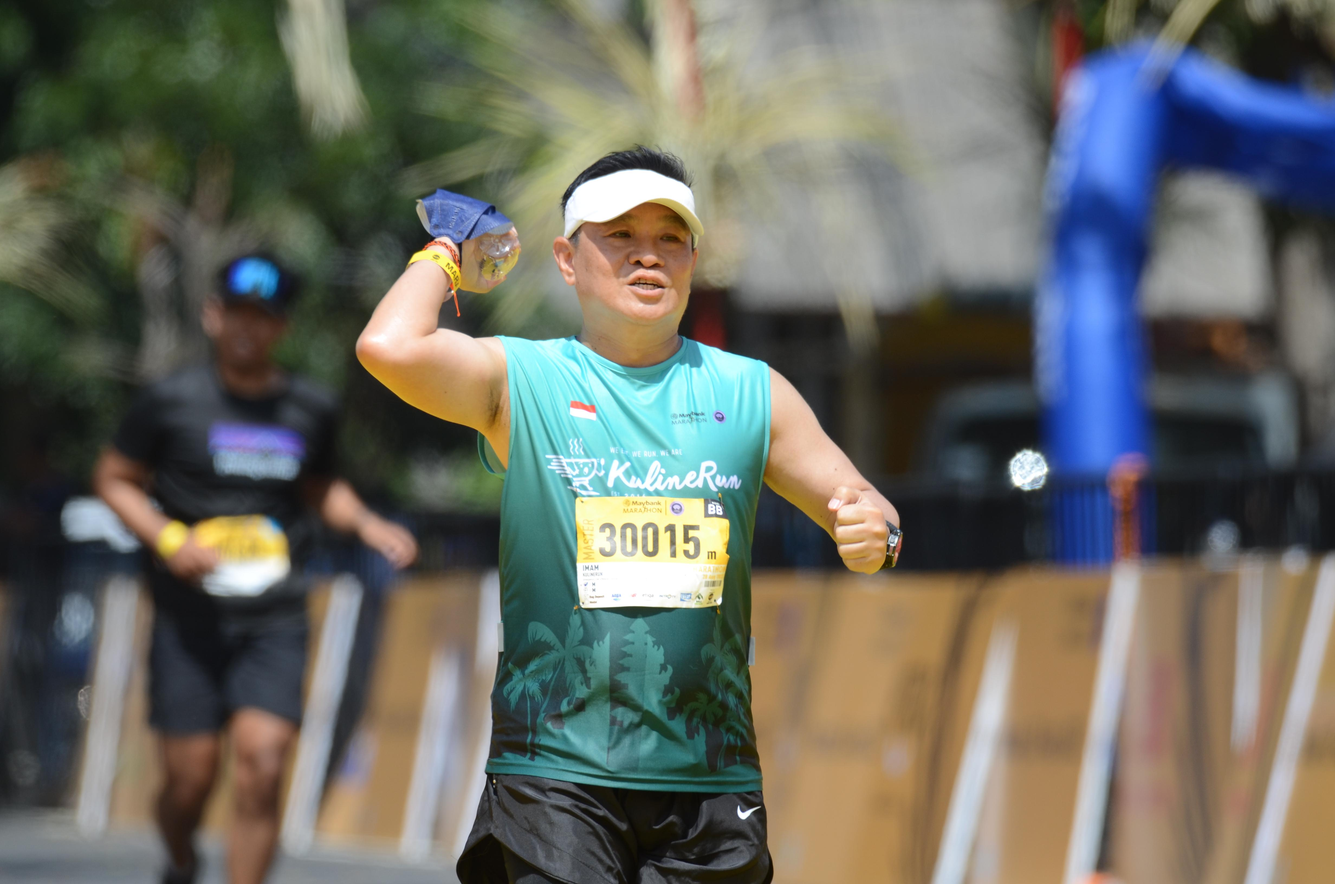bib: (578, 493, 725, 607), (190, 519, 287, 595)
